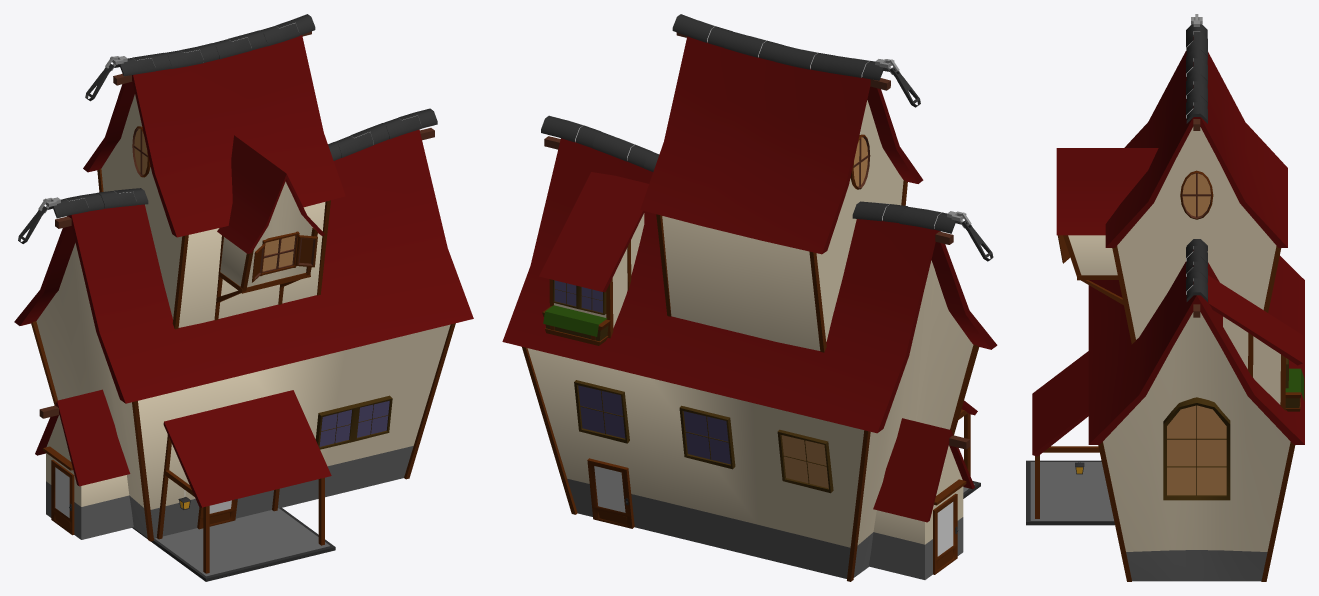
The model's file is HouseVariation.2.fbx.
3 renders of one model, left to right at view 1: azimuth 30°, elevation 25°; view 2: azimuth 150°, elevation 25°; view 3: azimuth 270°, elevation 25°, orthographic. The views are drawn at different scales.
Visible parts, largest first — view 1: Cube.120, Cube.119, Cube.122, Cube.128, Cube.121, Cube.125, Cube.135, Cube.124, Cube.253, Cube.071, Cube.245, Cube.136 (+6 smaller); view 2: Cube.119, Cube.120, Cube.122, Cube.121, Cube.141, Cube.135, Cube.253, Cube.136, Cube.245, Cube.071, Janela.026, Janela.027 (+7 smaller); view 3: Cube.119, Cube.120, Cube.121, Cube.122, Cube.124, Janela.035, Cube.125, Cube.128, Cube.141, Cube.071, Cube.245, Cube.140 (+5 smaller).
Boxes of the visible parts, x1,y1,x2,y2 form: Cube.120: [14, 129, 473, 403]; Cube.119: [36, 243, 450, 538]; Cube.122: [83, 35, 345, 237]; Cube.128: [163, 390, 331, 507]; Cube.121: [101, 94, 325, 327]; Cube.125: [132, 507, 335, 581]; Cube.135: [35, 389, 130, 486]; Cube.124: [217, 135, 325, 253]; Cube.253: [18, 108, 437, 243]; Cube.071: [31, 168, 455, 541]; Cube.245: [85, 14, 315, 101]; Cube.136: [46, 415, 133, 539]; Cube.119: [527, 260, 973, 578]; Cube.120: [502, 138, 997, 433]; Cube.122: [640, 36, 923, 254]; Cube.121: [662, 100, 903, 350]; Cube.141: [539, 172, 648, 292]; Cube.135: [873, 418, 974, 522]; Cube.253: [541, 115, 993, 261]; Cube.136: [868, 445, 963, 579]; Cube.245: [672, 14, 920, 107]; Cube.071: [522, 180, 979, 581]; Janela.026: [574, 380, 629, 443]; Janela.027: [679, 405, 735, 469]; Cube.119: [1103, 312, 1290, 581]; Cube.120: [1088, 249, 1304, 444]; Cube.121: [1117, 127, 1276, 339]; Cube.122: [1105, 37, 1287, 247]; Cube.124: [1056, 148, 1158, 235]; Janela.035: [1163, 397, 1230, 500]; Cube.125: [1026, 460, 1114, 525]; Cube.128: [1032, 351, 1088, 456]; Cube.141: [1207, 275, 1303, 365]; Cube.071: [1081, 246, 1295, 581]; Cube.245: [1186, 14, 1207, 123]; Cube.140: [1223, 316, 1280, 404].
Size of the model in its own units: 1816 by 1939 by 1095.
